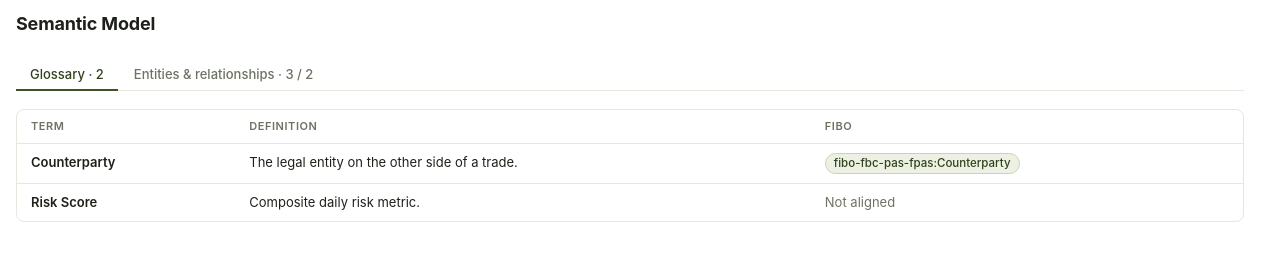
Test: Entities & relationships tab shows real key entities and FK relationships
What coordinates should you click on to do the following:
click the tab "Entities & relationships · 3 / 2"
I would click on:
 (224, 75)
Its box is left=120, top=59, right=327, bottom=91.
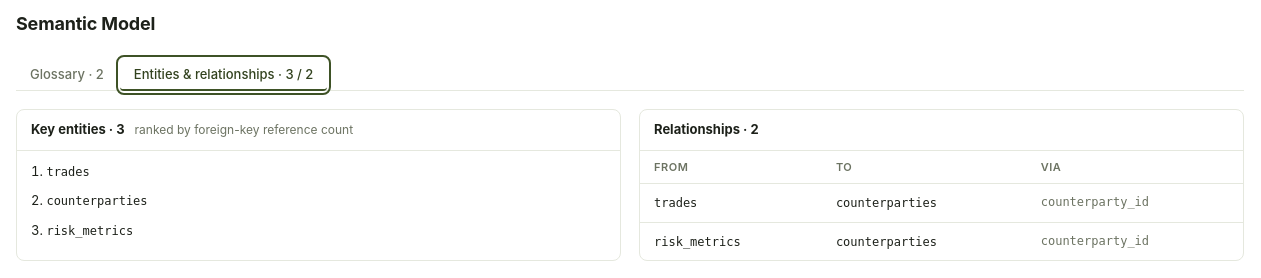
Expected: the text "risk_metrics" below "Key entities ·" is shown, left=46, top=224, right=133, bottom=238
Expected: the cell "trades" is shown, left=640, top=184, right=822, bottom=222
Expected: the 1st cell "counterparty_id" is shown, left=1027, top=184, right=1243, bottom=222
